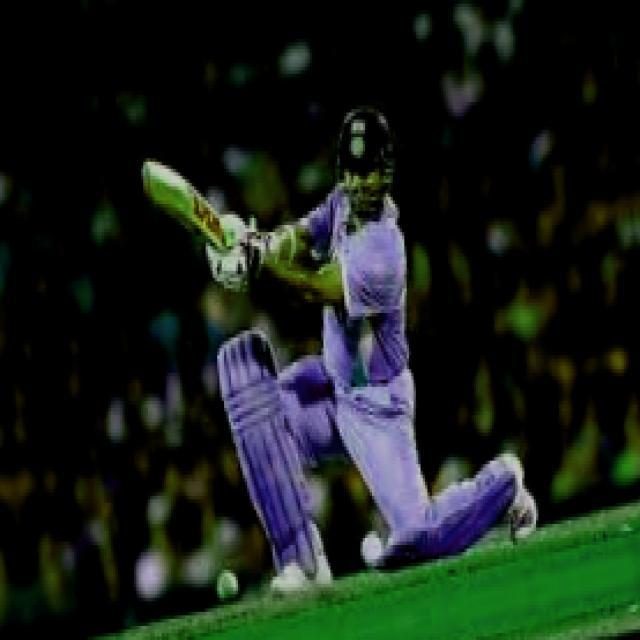bat: (136, 158, 230, 254)
toe: (141, 158, 160, 199)
